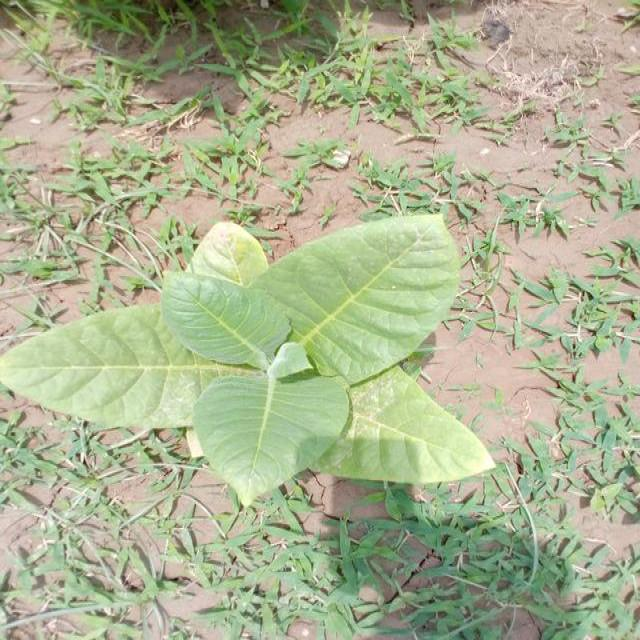crop: (20, 239, 491, 503)
